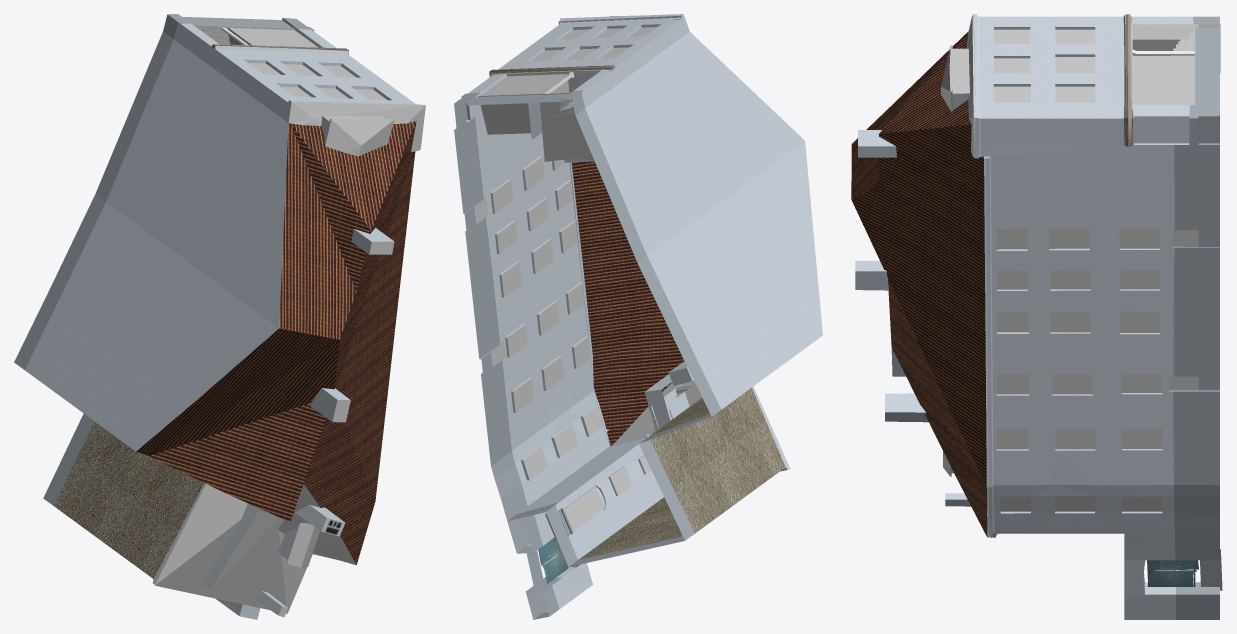
Rendered from Viru_22.obj.
The picture shows the model from 3 angles, left to right: view 1: azimuth 30°, elevation 25°; view 2: azimuth 150°, elevation 25°; view 3: azimuth 270°, elevation 25°; orthographic projection. The views are drawn at different scales.
Parts seen in each view (by area): view 1: Viru_22; view 2: Viru_22; view 3: Viru_22.
Part boxes in pixels (<box>): Viru_22: <box>14,14,425,619</box>; Viru_22: <box>454,14,822,619</box>; Viru_22: <box>851,14,1222,619</box>.
Size of the model in its own units: 18.17 by 35.08 by 20.14.
